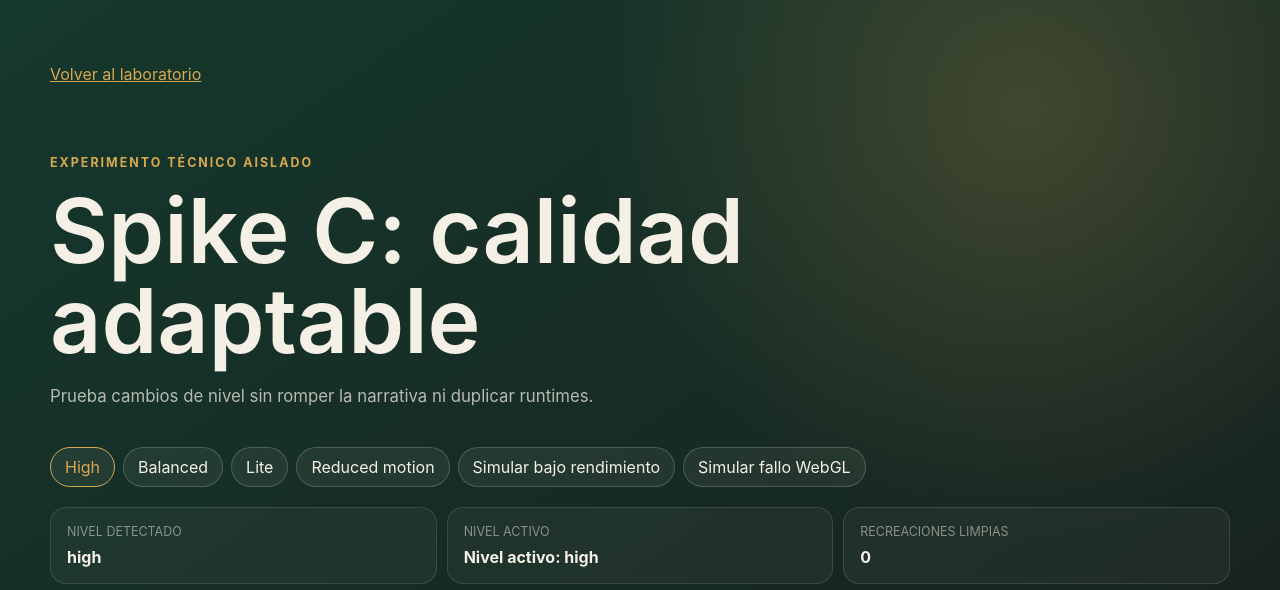
Scenario: AdaptiveSpike › uses lite after simulated WebGL failure
Click the button "Simular fallo WebGL". click: coordinates (774, 467)
box: [683, 447, 866, 487]
(page scrolled)
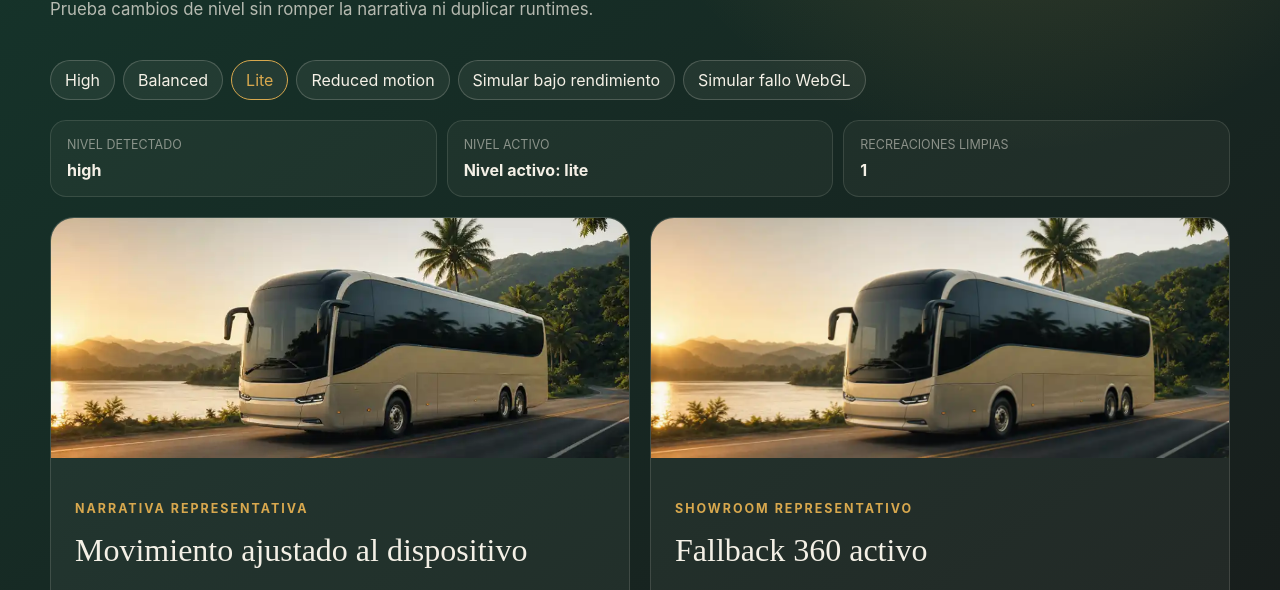
Expected: the text "Nivel activo: lite" is shown, [464, 160, 588, 180]
Expected: the heading "Fallback 360 activo" is shown, [675, 532, 927, 568]
